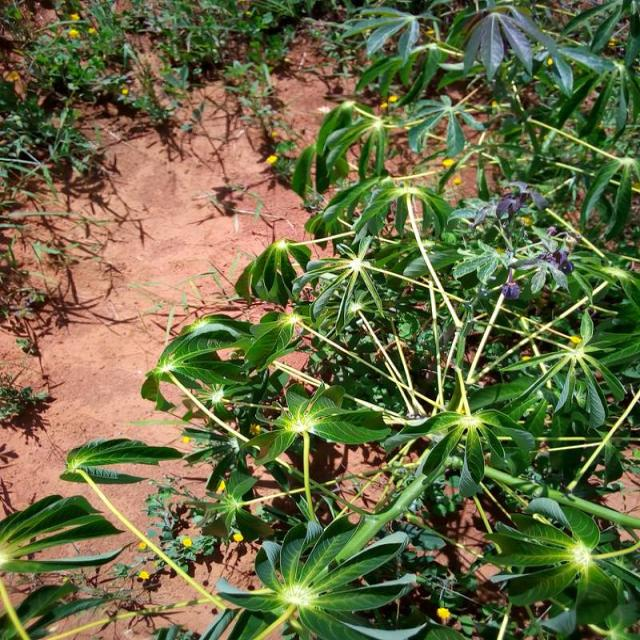cassava leaf: (4, 2, 638, 638)
